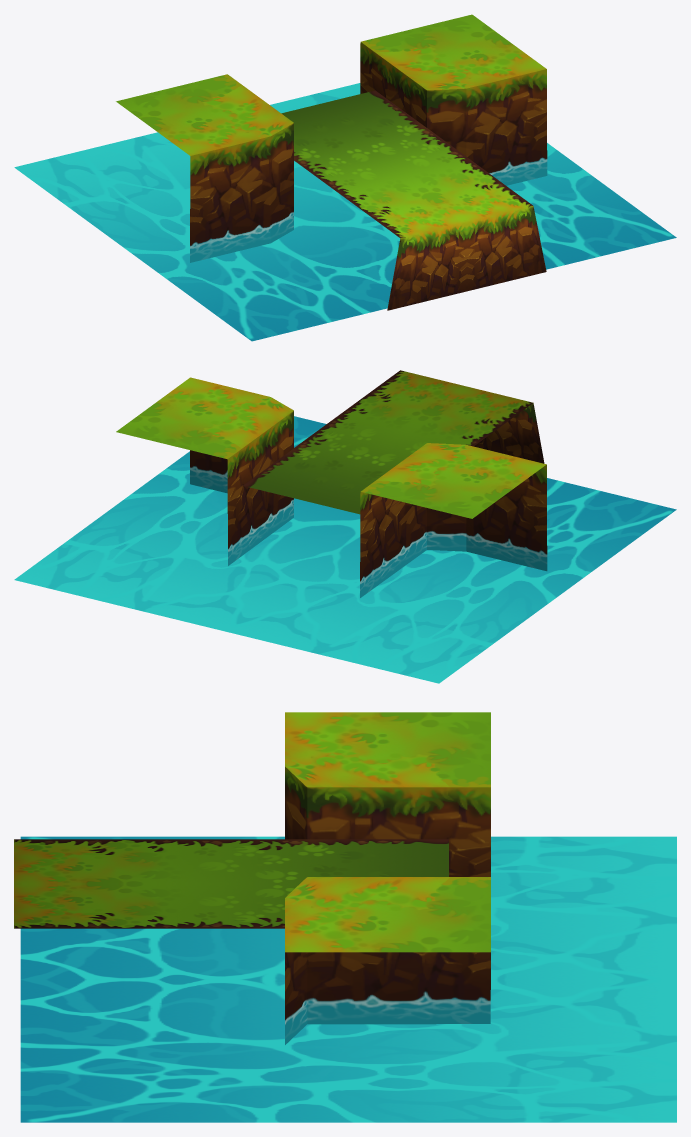
File: xiaoxiong02_001.FBX
The picture shows the model from 3 angles, top to bottom: view 1: azimuth 30°, elevation 25°; view 2: azimuth 150°, elevation 25°; view 3: azimuth 270°, elevation 25°; orthographic projection. The views are drawn at different scales.
Parts seen in each view (by area): view 1: xiaoxiong02_001; view 2: xiaoxiong02_001; view 3: xiaoxiong02_001.
Part boxes in pixels (bbox=[...]): xiaoxiong02_001: bbox=[14, 14, 676, 341]; xiaoxiong02_001: bbox=[14, 370, 676, 683]; xiaoxiong02_001: bbox=[14, 712, 676, 1122].
Bounding box in the file's own units: 6968 × 6825 × 1675.
